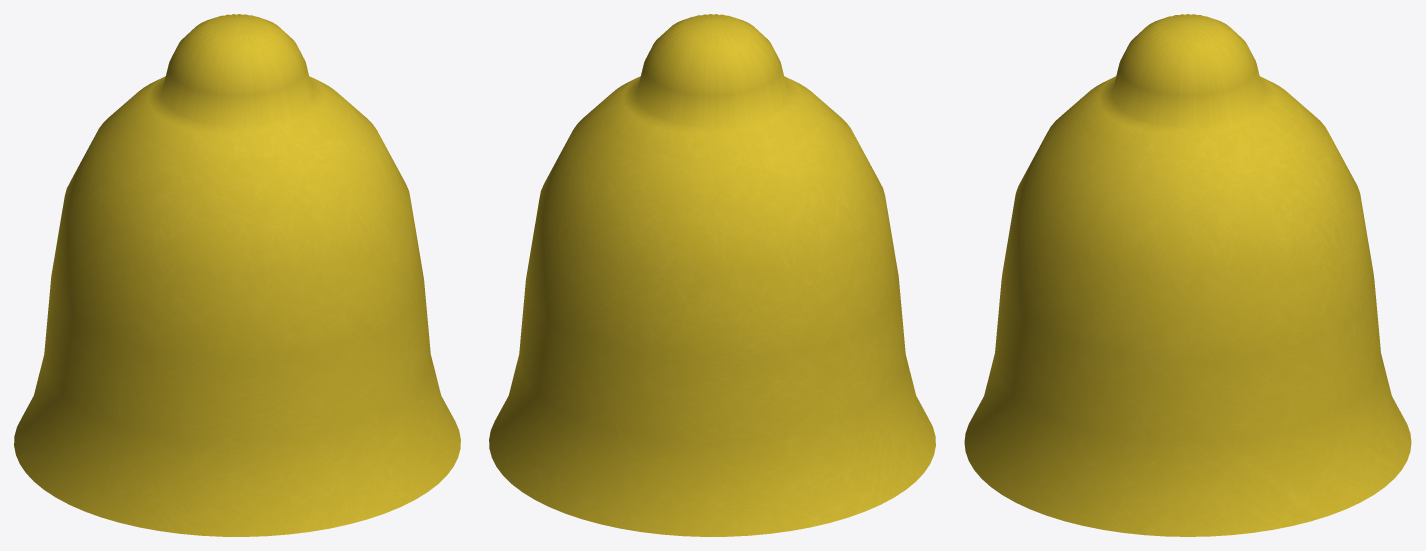
File: beru.fbx
The picture shows the model from 3 angles, left to right: view 1: azimuth 30°, elevation 25°; view 2: azimuth 150°, elevation 25°; view 3: azimuth 270°, elevation 25°; orthographic projection.
Parts seen in each view (by area): view 1: Cylinder; view 2: Cylinder; view 3: Cylinder.
Boxes of the visible parts, x1=… form: Cylinder: x1=14, y1=14, x2=460, y2=536; Cylinder: x1=489, y1=14, x2=935, y2=536; Cylinder: x1=964, y1=14, x2=1411, y2=536.
Size of the model in its own units: 237 by 290 by 237.
